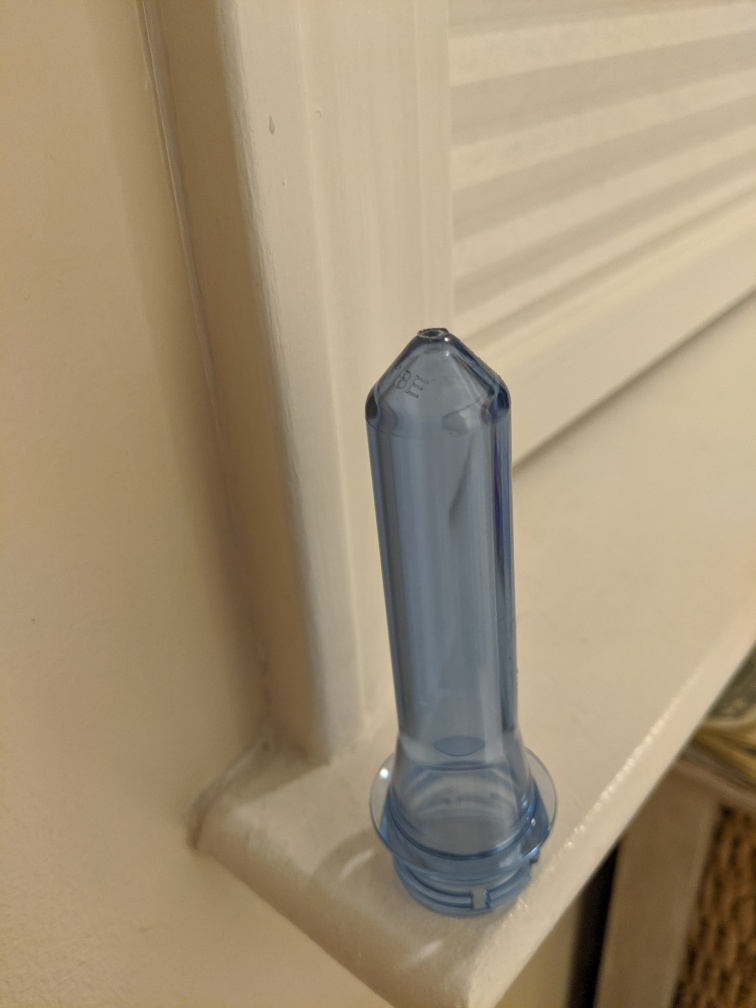preform: (348, 307, 566, 925)
